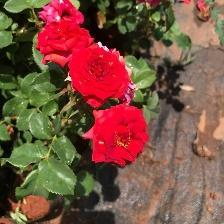rose: (85, 103, 152, 170), (72, 45, 131, 103), (38, 16, 91, 57)
